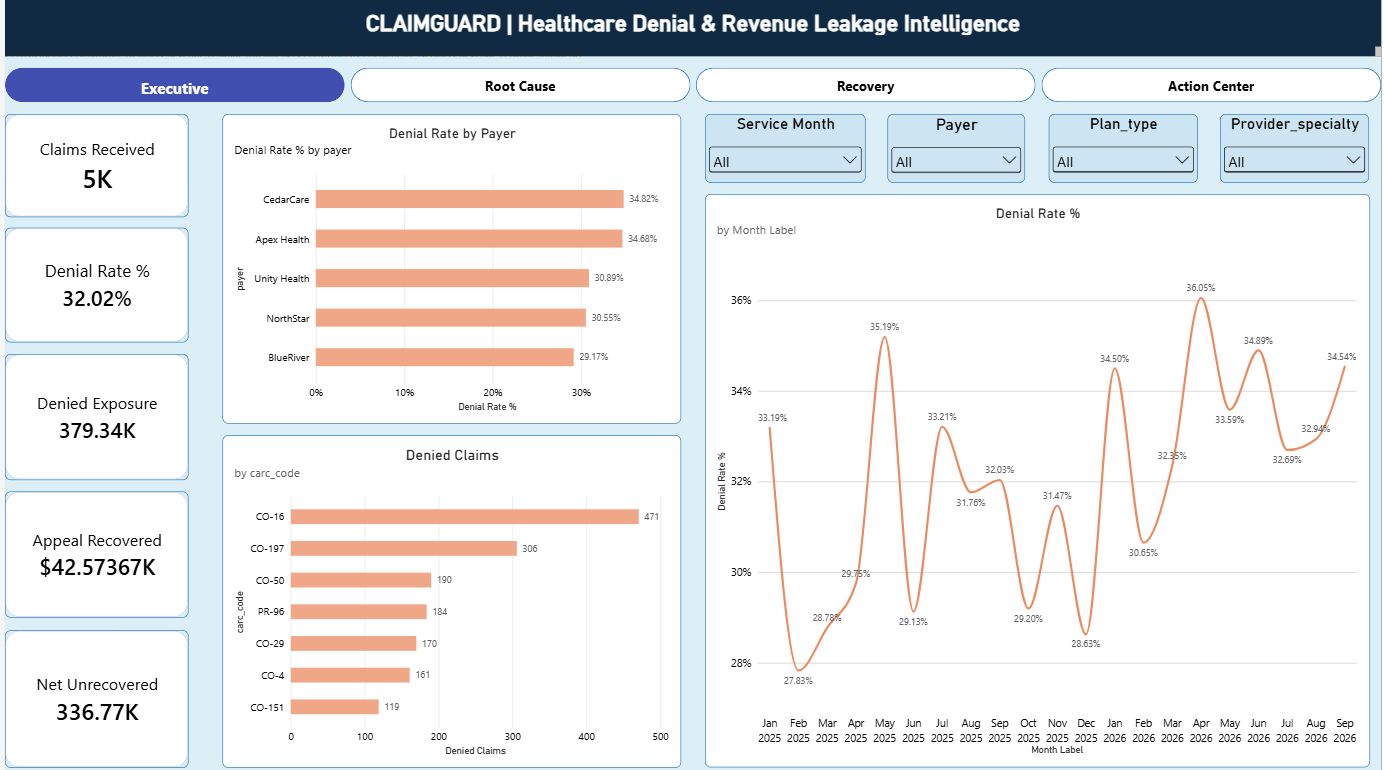

The dashboard page shown, as its layout file describes it:
{"tool":"powerbi","page":{"name":"Executive","canvas":[1920,1080],"ordinal":0},"visuals":[{"type":"textbox","title":"CLAIMGUARD | Healthcare Denial & Revenue Leakage Intelligence","box":[0,0,1920,80],"z":0},{"type":"slicer","title":"Service Month","fields":{"Values":["claims_processed.Month Label"]},"box":[976,160,224,96],"z":1000},{"type":"slicer","title":"Payer","fields":{"Values":["claims_processed.payer"]},"box":[1232,160,192,96],"z":2000},{"type":"slicer","title":"Plan_type","fields":{"Values":["claims_processed.plan_type"]},"box":[1456,160,208,96],"z":3000},{"type":"slicer","title":"Provider_specialty","fields":{"Values":["claims_processed.provider_specialty"]},"box":[1696,160,208,96],"z":4000},{"type":"cardVisual","fields":{"Data":["claims_processed.Total Claims"]},"box":[0,160,256,144],"z":5000},{"type":"cardVisual","fields":{"Data":["claims_processed.Denial Rate %"]},"box":[0,320,256,160],"z":6000},{"type":"cardVisual","fields":{"Data":["claims_processed.Denied Exposure"]},"box":[0,496,256,176],"z":7000},{"type":"cardVisual","fields":{"Data":["claims_processed.Appeal Recovered"]},"box":[0,688,256,176],"z":8000},{"type":"cardVisual","fields":{"Data":["claims_processed.Net Unrecovered"]},"box":[0,880,256,192],"z":9000},{"type":"clusteredBarChart","title":"Denial Rate by Payer","fields":{"Category":["claims_processed.payer"],"Y":["claims_processed.Denial Rate %"]},"box":[304,160,640,432],"z":10000},{"type":"clusteredBarChart","fields":{"Category":["claims_processed.carc_code"],"Y":["claims_processed.Denied Claims"]},"box":[304,608,640,464],"z":11000},{"type":"lineChart","fields":{"Category":["claims_processed.Month Label"],"Y":["claims_processed.Denial Rate %"]},"box":[976,272,928,800],"z":12000},{"type":"pageNavigator","box":[0,96,1920,48],"z":13000}]}

Visuals, with their boxes in screenshot pixels (x1, y1, x2, y2), scaled from the page's 1920x1080 canvas onto the 1384x770 screenshot:
"CLAIMGUARD | Healthcare Denial & Revenue Leakage Intelligence" textbox: (0, 0, 1383, 57)
"Service Month" slicer: (704, 114, 865, 183)
"Payer" slicer: (888, 114, 1026, 183)
"Plan_type" slicer: (1050, 114, 1199, 183)
"Provider_specialty" slicer: (1223, 114, 1372, 183)
cardVisual - claims_processed.Total Claims: (0, 114, 185, 217)
cardVisual - claims_processed.Denial Rate %: (0, 228, 185, 342)
cardVisual - claims_processed.Denied Exposure: (0, 354, 185, 479)
cardVisual - claims_processed.Appeal Recovered: (0, 491, 185, 616)
cardVisual - claims_processed.Net Unrecovered: (0, 627, 185, 764)
"Denial Rate by Payer" clusteredBarChart: (219, 114, 680, 422)
clusteredBarChart - claims_processed.carc_code x claims_processed.Denied Claims: (219, 433, 680, 764)
lineChart - claims_processed.Month Label x claims_processed.Denial Rate %: (704, 194, 1372, 764)
pageNavigator: (0, 68, 1383, 103)
